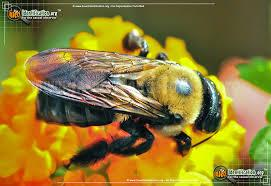Apis-mellifera-scutellata: (30, 37, 233, 162)
